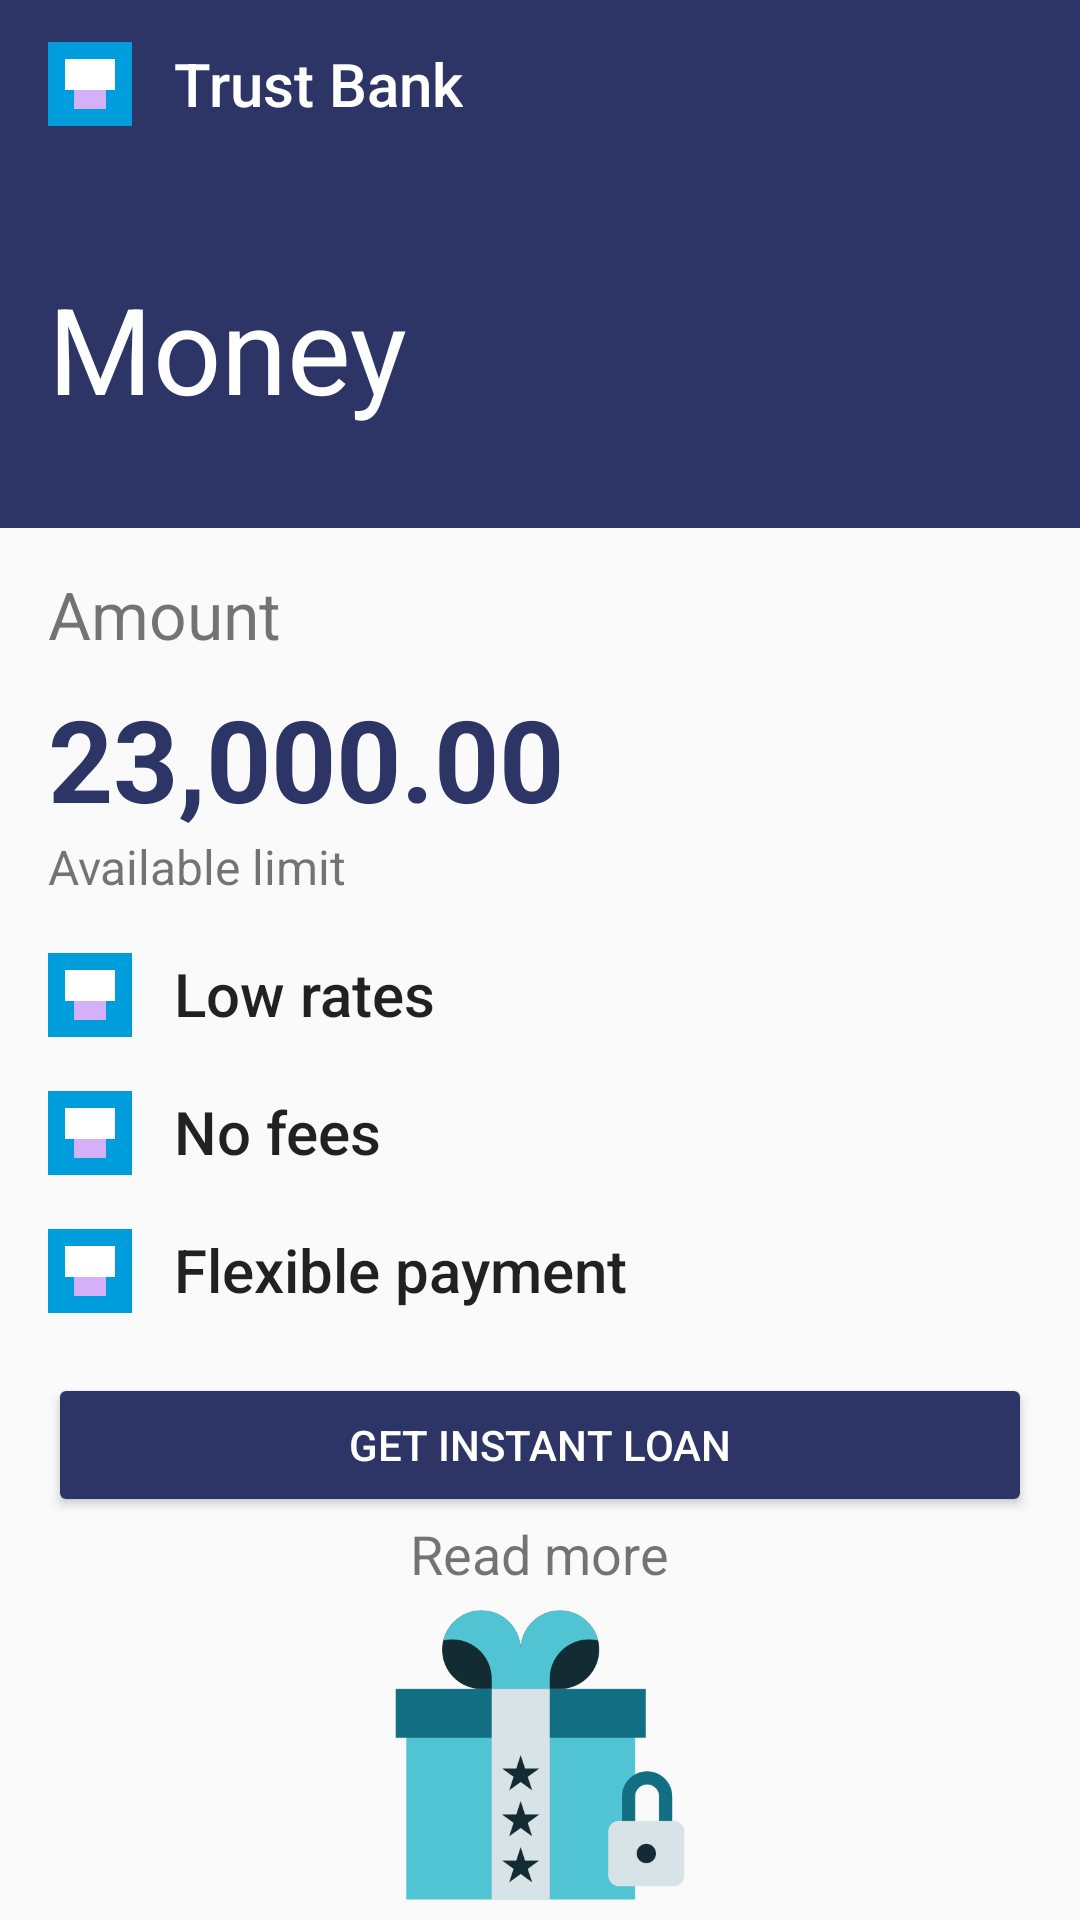

Icons on this 1080px×1920px Android screen, each with its box as (x1, y1, x2, y2):
surpise box: (395, 1610, 684, 1900)
